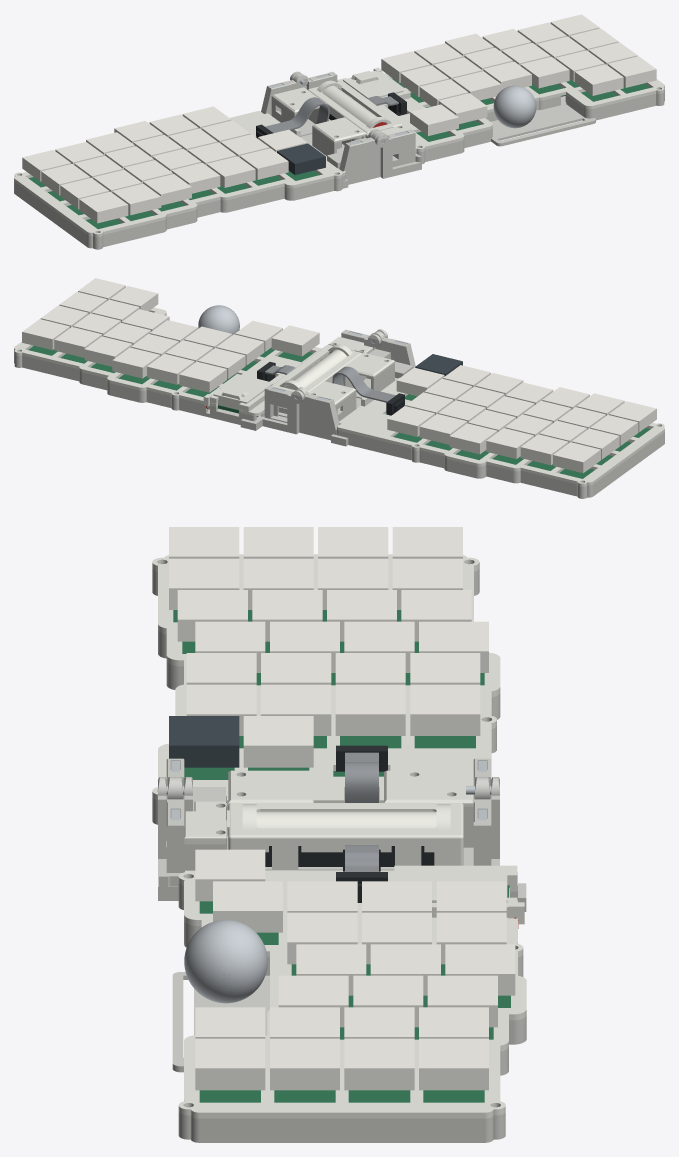
The model's file is komoro-folding-open.glb.
3 views of the same model, one above another, from view 1: azimuth 30°, elevation 25°; view 2: azimuth 150°, elevation 25°; view 3: azimuth 270°, elevation 25° (orthographic). The views are drawn at different scales.
Visible parts, largest first — view 1: 01_Open / right_tray, 01_Open / left_tray, 01_Open / left_plate, 01_Open / right_plate, 01_Open / battery_cap, 01_Open / Trackball_visual_only, 01_Open / left_PCB_reference, 01_Open / right_PCB_reference, 01_Open / left_key_23, 01_Open / right_key_14, 01_Open / Interconnect ribbon, 01_Open / right_key_10 (+49 smaller); view 2: 01_Open / left_tray, 01_Open / right_tray, 01_Open / left_plate, 01_Open / right_plate, 01_Open / right_PCB_reference, 01_Open / battery_cap, 01_Open / left_PCB_reference, 01_Open / right_key_10, 01_Open / left_key_02, 01_Open / right_key_18, 01_Open / Interconnect ribbon, 01_Open / left_key_24 (+50 smaller); view 3: 01_Open / right_tray, 01_Open / right_plate, 01_Open / left_plate, 01_Open / battery_cap, 01_Open / Trackball_visual_only, 01_Open / right_PCB_reference, 01_Open / right_key_16, 01_Open / right_key_11, 01_Open / right_key_02, 01_Open / right_key_12, 01_Open / left_key_15, 01_Open / left_key_13 (+51 smaller).
Part boxes in pixels (x1,y1,x2,y2): 01_Open / right_tray: (271,71,664,178); 01_Open / left_tray: (14,73,383,249); 01_Open / left_plate: (14,111,345,237); 01_Open / right_plate: (337,67,664,151); 01_Open / battery_cap: (308,80,402,133); 01_Open / Trackball_visual_only: (493,85,536,128); 01_Open / left_PCB_reference: (28,170,319,229); 01_Open / right_PCB_reference: (387,78,650,141); 01_Open / left_key_23: (79,191,128,223); 01_Open / right_key_14: (574,64,623,95); 01_Open / Interconnect ribbon: (265,96,398,132); 01_Open / right_key_10: (410,104,458,135); 01_Open / left_tray: (296,331,664,498); 01_Open / right_tray: (14,320,397,434); 01_Open / left_plate: (337,377,664,486); 01_Open / right_plate: (14,307,321,416); 01_Open / right_PCB_reference: (28,345,313,416); 01_Open / battery_cap: (271,344,361,408); 01_Open / left_PCB_reference: (386,394,650,478); 01_Open / right_key_10: (271,325,319,356); 01_Open / left_key_02: (553,442,600,473); 01_Open / right_key_18: (179,361,226,392); 01_Open / Interconnect ribbon: (265,365,395,402); 01_Open / left_key_24: (449,423,497,454); 01_Open / right_tray: (158,777,526,1142); 01_Open / right_plate: (178,865,526,1118); 01_Open / left_plate: (152,554,500,806); 01_Open / battery_cap: (227,803,463,870); 01_Open / Trackball_visual_only: (184,919,267,1003); 01_Open / right_PCB_reference: (199,885,510,1102); 01_Open / right_key_16: (344,1038,414,1090); 01_Open / right_key_11: (195,1038,265,1090); 01_Open / right_key_02: (270,1038,339,1090); 01_Open / right_key_12: (419,1038,488,1090); 01_Open / left_key_15: (243,716,313,767); 01_Open / left_key_13: (410,684,480,735).
Size of the model in its own units: 0.3012 by 0.0227 by 0.0854.
